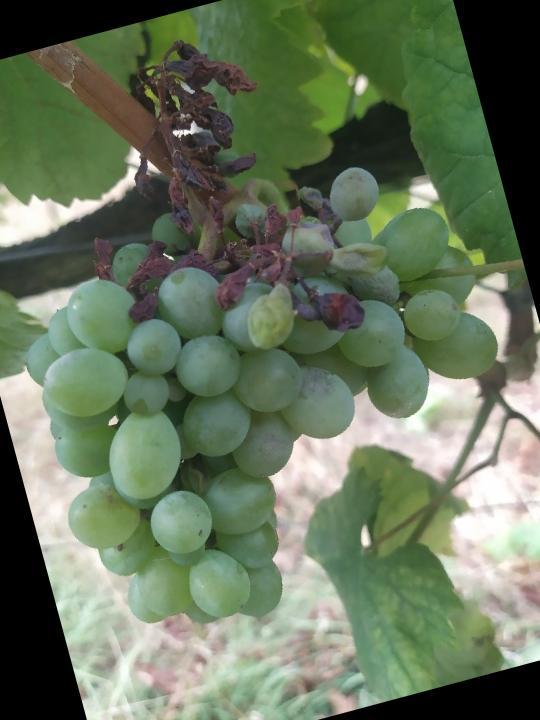grape: (0, 0, 540, 662)
